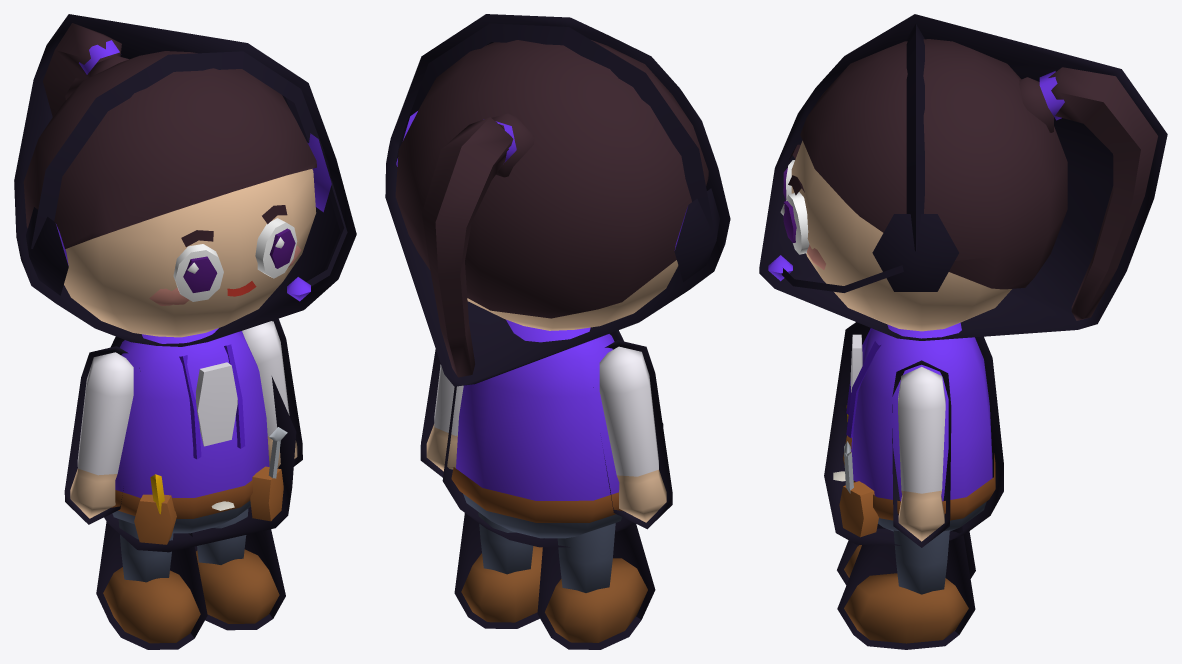
Rendered from figur_zopf.glb.
3 renders of one model, left to right at view 1: azimuth 30°, elevation 25°; view 2: azimuth 150°, elevation 25°; view 3: azimuth 270°, elevation 25°, orthographic. The views are drawn at different scales.
Parts seen in each view (by area): view 1: kopf, koerper, bein_r, arm_r, bein_l, arm_l; view 2: kopf, koerper, bein_r, arm_r, bein_l, arm_l; view 3: kopf, koerper, bein_l, arm_l, bein_r.
Boxes of the visible parts, <box> form: kopf: <box>14,14,356,346</box>; koerper: <box>104,328,296,552</box>; bein_r: <box>96,519,207,649</box>; arm_r: <box>64,346,140,524</box>; bein_l: <box>194,509,285,630</box>; arm_l: <box>242,318,302,467</box>; kopf: <box>385,14,730,386</box>; koerper: <box>442,319,663,547</box>; bein_r: <box>537,523,655,649</box>; arm_r: <box>593,340,672,529</box>; bein_l: <box>454,512,542,628</box>; arm_l: <box>420,349,463,477</box>; kopf: <box>759,14,1167,340</box>; koerper: <box>824,322,1003,545</box>; bein_l: <box>837,524,975,649</box>; arm_l: <box>892,360,951,547</box>; bein_r: <box>837,531,975,585</box>.
Size of the model in its own units: 0.7215 by 1.26 by 0.7993.
